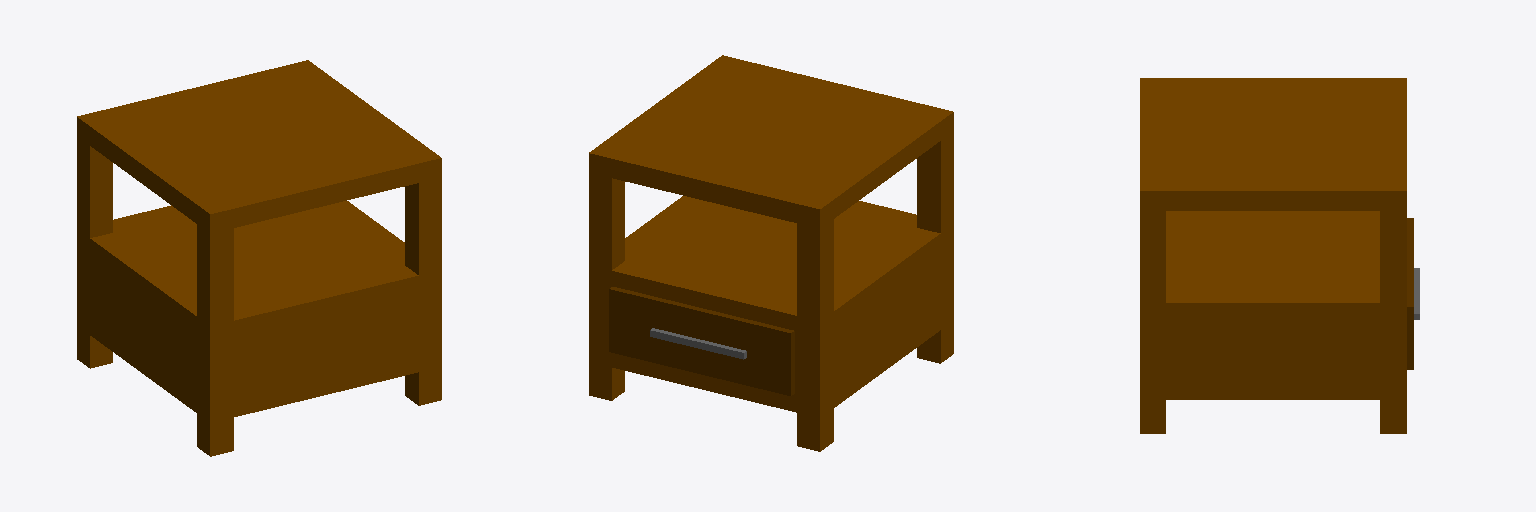
3 views of the same model, side by side, from view 1: azimuth 30°, elevation 25°; view 2: azimuth 150°, elevation 25°; view 3: azimuth 270°, elevation 25° (orthographic).
Parts seen in each view (by area): view 1: TableLivingroom; view 2: TableLivingroom; view 3: TableLivingroom.
Boxes of the visible parts, x1=… form: TableLivingroom: x1=77, y1=60, x2=441, y2=456; TableLivingroom: x1=589, y1=55, x2=953, y2=451; TableLivingroom: x1=1140, y1=78, x2=1419, y2=433.
Size of the model in its own units: 88.21 by 88.2 by 92.59.
Materials: 1 (1 with a texture image).